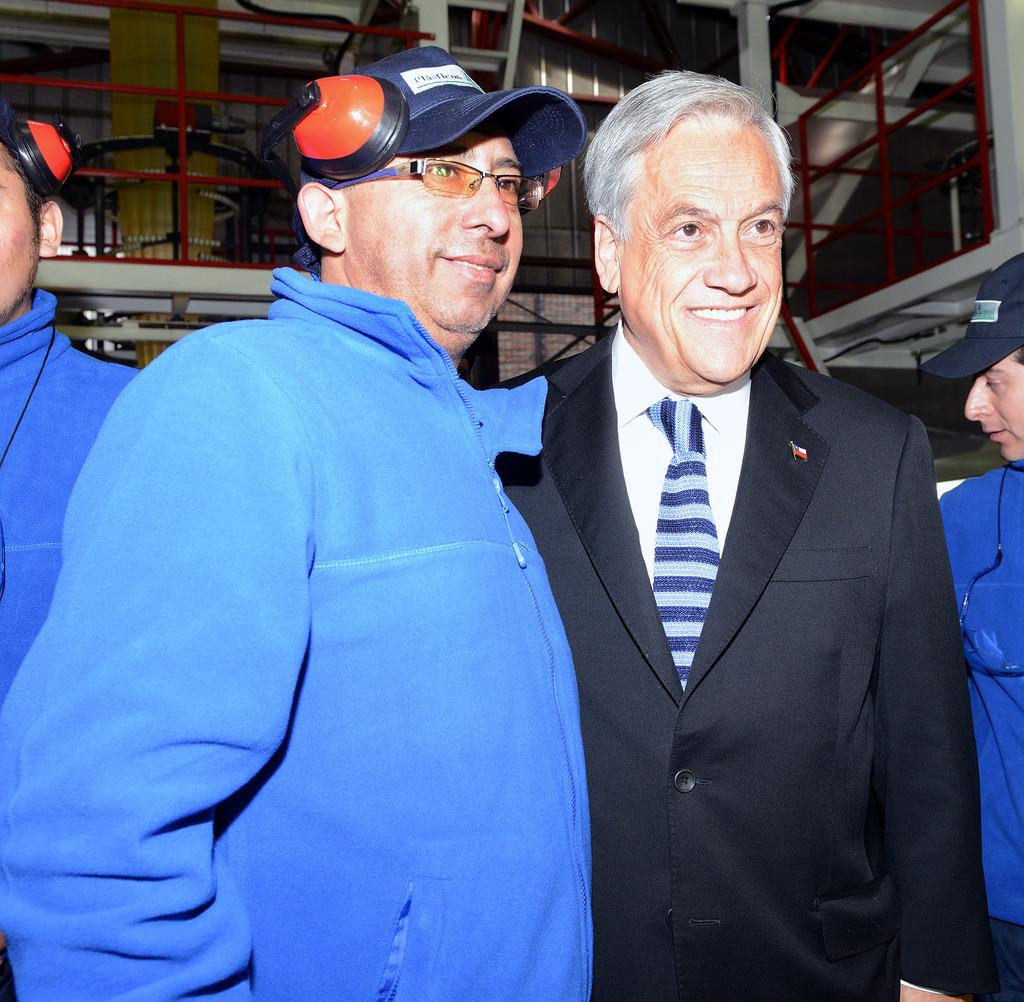Hat: (262, 49, 590, 180), (919, 249, 1023, 382)
